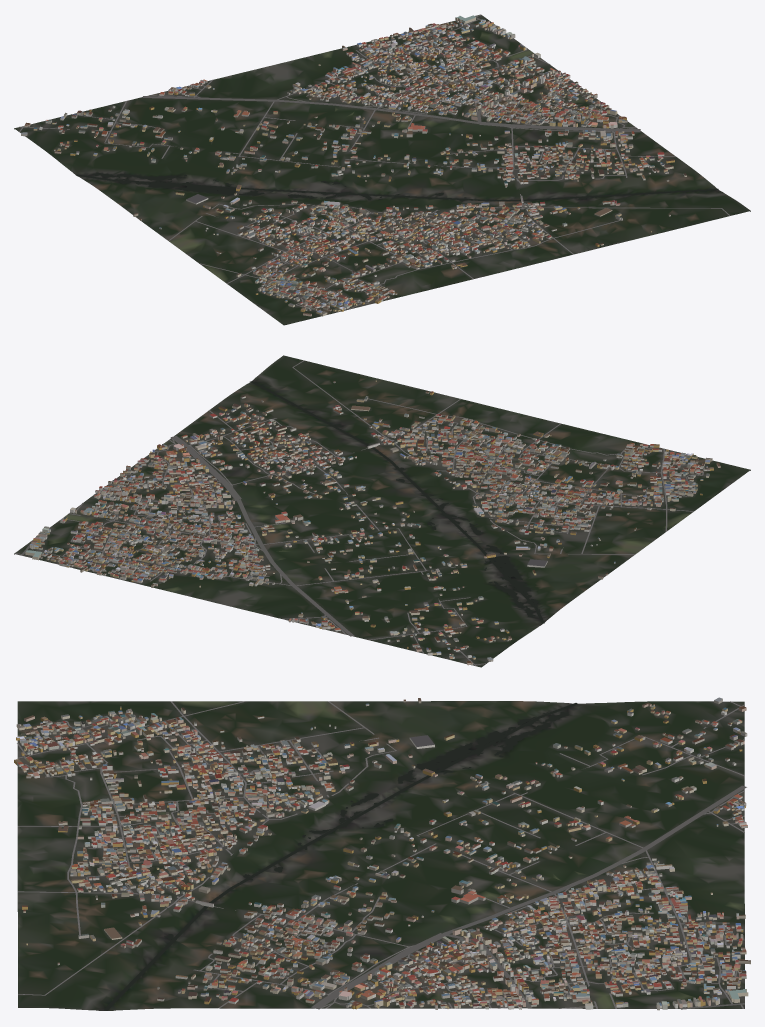
The picture shows the model from 3 angles, top to bottom: view 1: azimuth 30°, elevation 25°; view 2: azimuth 150°, elevation 25°; view 3: azimuth 270°, elevation 25°; orthographic projection. The views are drawn at different scales.
Parts seen in each view (by area): view 1: ground, buildings, roads, water; view 2: ground, buildings, roads, water; view 3: ground, buildings, roads, water.
Boxes of the visible parts, x1=… form: ground: x1=14, y1=14, x2=750, y2=325; buildings: x1=21, y1=15, x2=686, y2=316; roads: x1=19, y1=14, x2=730, y2=309; water: x1=76, y1=172, x2=718, y2=201; ground: x1=14, y1=355, x2=750, y2=667; buildings: x1=25, y1=380, x2=720, y2=665; roads: x1=14, y1=360, x2=703, y2=666; water: x1=250, y1=381, x2=544, y2=623; ground: x1=17, y1=701, x2=744, y2=1010; buildings: x1=14, y1=697, x2=750, y2=1010; roads: x1=17, y1=701, x2=746, y2=1009; water: x1=104, y1=703, x2=578, y2=1010.
Bounding box in the file's own units: 1415 × 24.71 × 1421.
